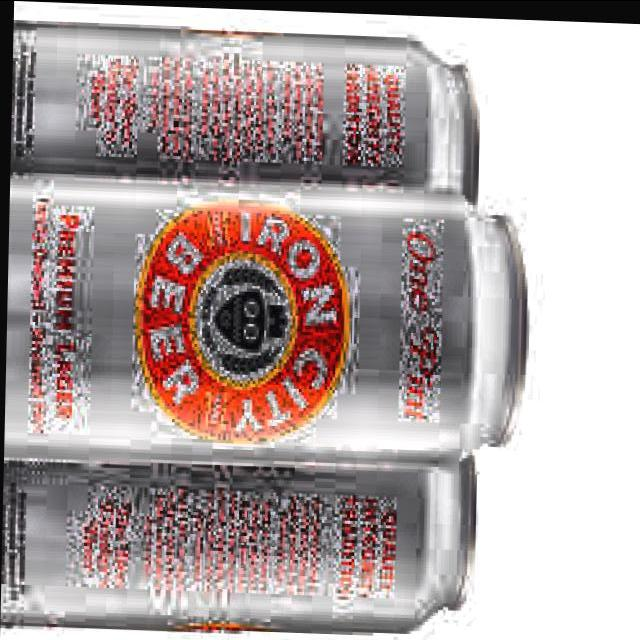Aluminum Can: (3, 164, 537, 479), (3, 424, 485, 640), (8, 18, 485, 208)
